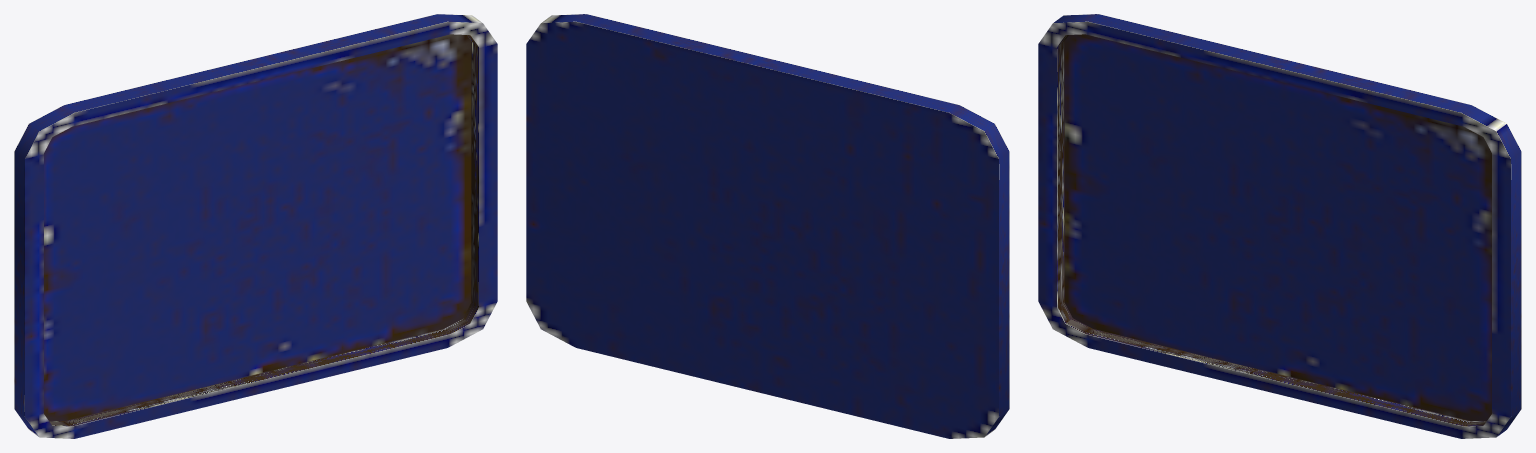
Rendered from Street Board.fbx.
The picture shows the model from 3 angles, left to right: view 1: azimuth 30°, elevation 25°; view 2: azimuth 150°, elevation 25°; view 3: azimuth 330°, elevation 25°; orthographic projection.
Visible parts, largest first — view 1: Cube.003; view 2: Cube.003; view 3: Cube.003.
Boxes of the visible parts, x1,y1,x2,y2 form: Cube.003: (14, 14, 497, 438); Cube.003: (526, 14, 1009, 438); Cube.003: (1038, 14, 1521, 438).
Bounding box in the file's own units: 57.28 × 37.77 × 2.28.
